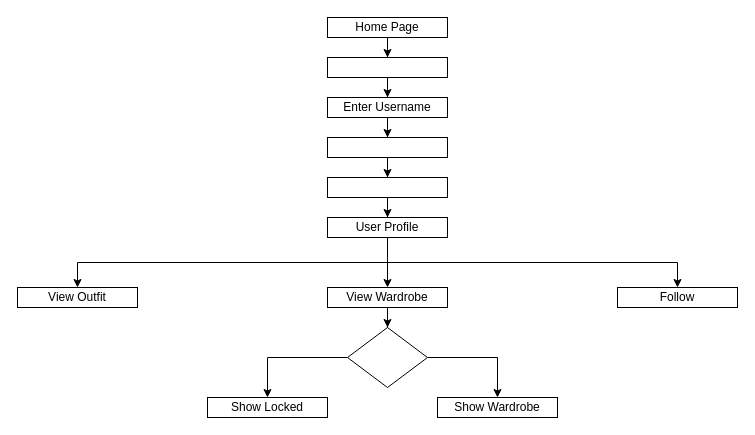
Image size: 755x435. Some labels were removed from this diagram. The shapes that lost their labels are listed below. From the top down, each one's centre as x and y in pixels, then its label:
point (387, 67): Search
point (387, 147): Results
point (387, 187): Select User
point (387, 357): Wardrobe Public?
